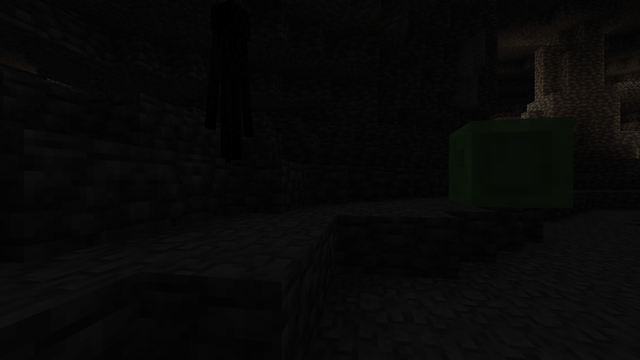endermens: (207, 0, 252, 160)
slimes: (445, 112, 577, 207)
